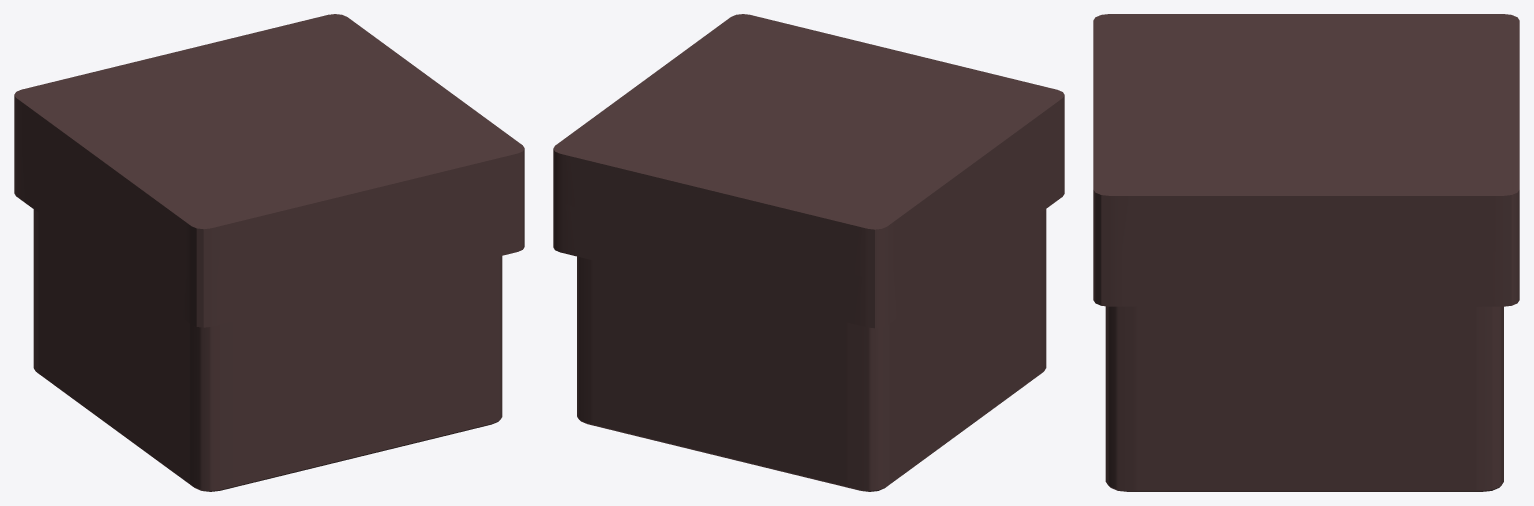
Rendered from ItemChest.fbx.
3 views of the same model, side by side, from view 1: azimuth 30°, elevation 25°; view 2: azimuth 150°, elevation 25°; view 3: azimuth 270°, elevation 25° (orthographic). The views are drawn at different scales.
Visible parts, largest first — view 1: ChestLid, ChestBottom; view 2: ChestLid, ChestBottom; view 3: ChestLid, ChestBottom.
Boxes of the visible parts, x1,y1,x2,y2 form: ChestLid: (14,14,524,327); ChestBottom: (33,209,502,491); ChestLid: (553,14,1064,328); ChestBottom: (577,209,1046,491); ChestLid: (1093,14,1519,306); ChestBottom: (1105,306,1503,491).
Size of the model in its own units: 1.41 by 1.1 by 1.39.
